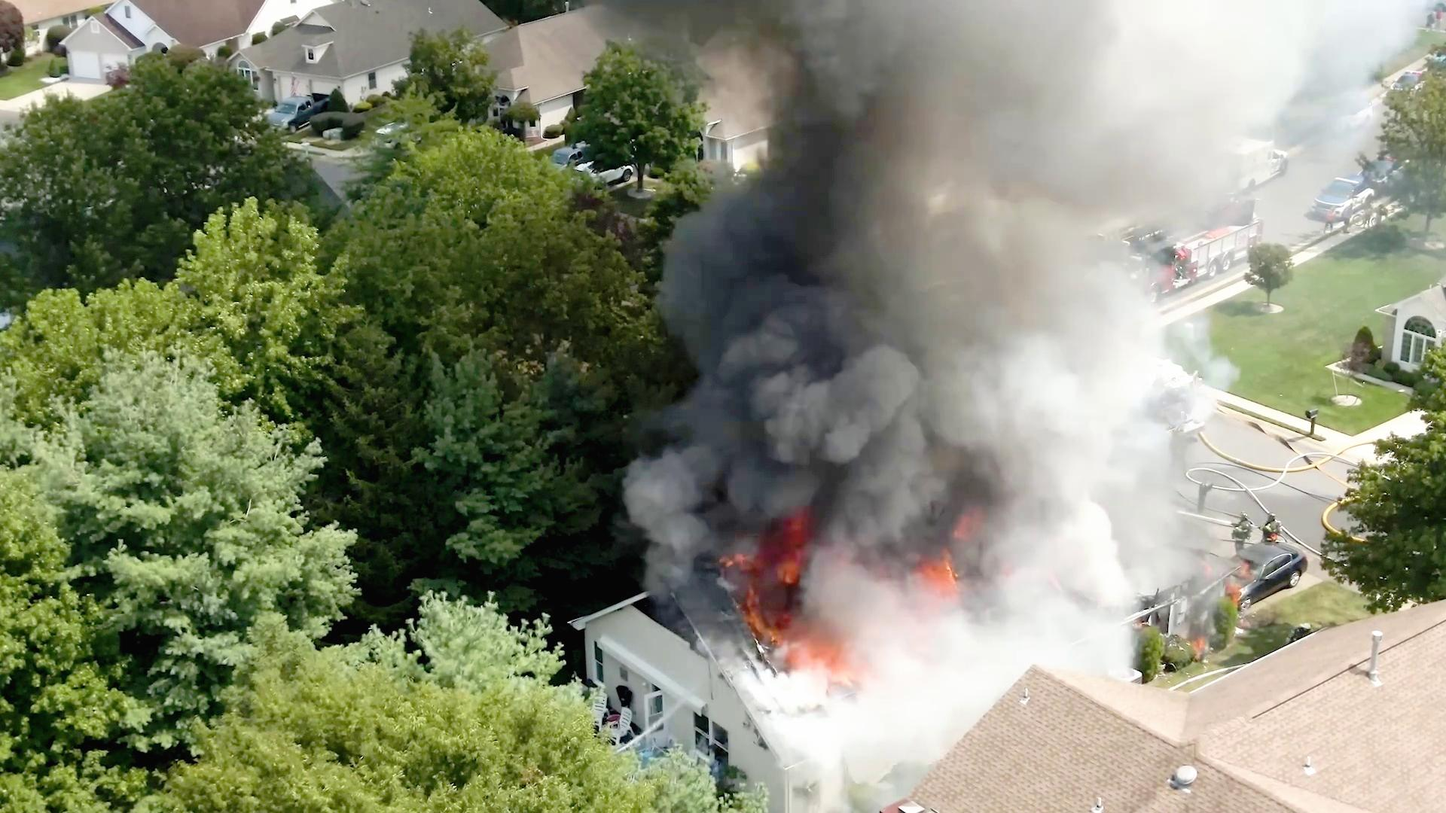smoke: (689, 175, 983, 535), (930, 190, 1153, 527), (787, 0, 1210, 162)
